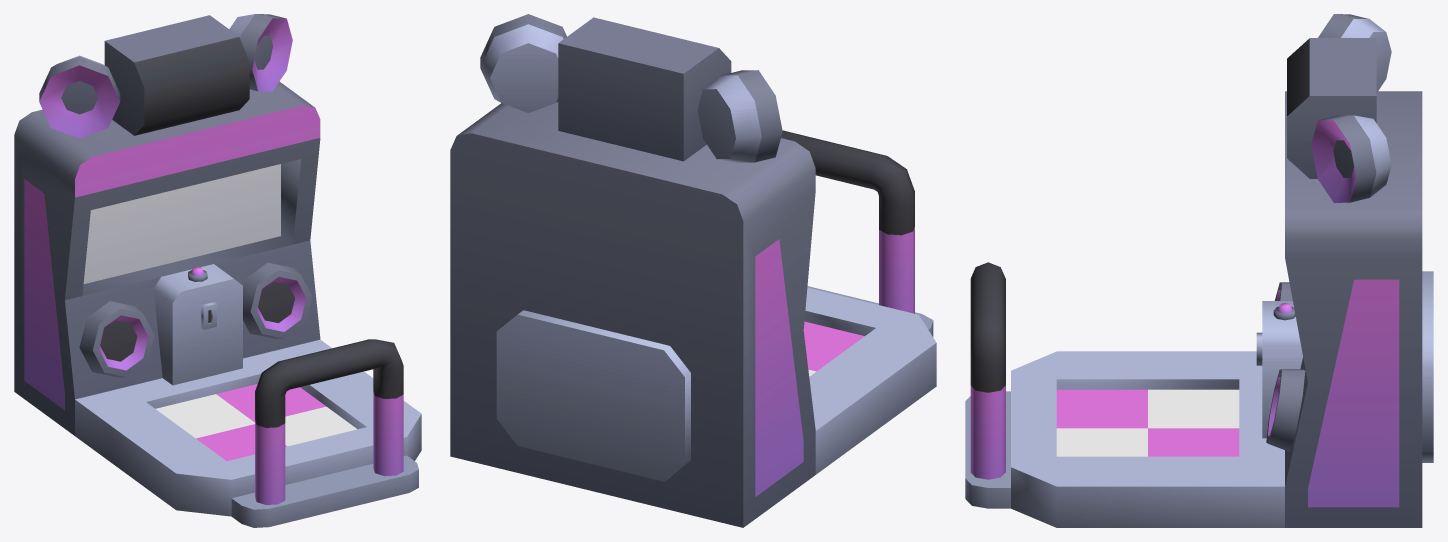
The model's file is dance-machine.glb.
The picture shows the model from 3 angles, left to right: view 1: azimuth 30°, elevation 25°; view 2: azimuth 150°, elevation 25°; view 3: azimuth 270°, elevation 25°; orthographic projection. The views are drawn at different scales.
Visible parts, largest first — view 1: dance-machine; view 2: dance-machine; view 3: dance-machine.
Boxes of the visible parts, x1=… form: dance-machine: x1=14, y1=14, x2=421, y2=527; dance-machine: x1=450, y1=14, x2=936, y2=527; dance-machine: x1=965, y1=14, x2=1433, y2=527.
Bounding box in the file's own units: 0.7232 × 0.95 × 1.02.
1 material, 1 textured.
